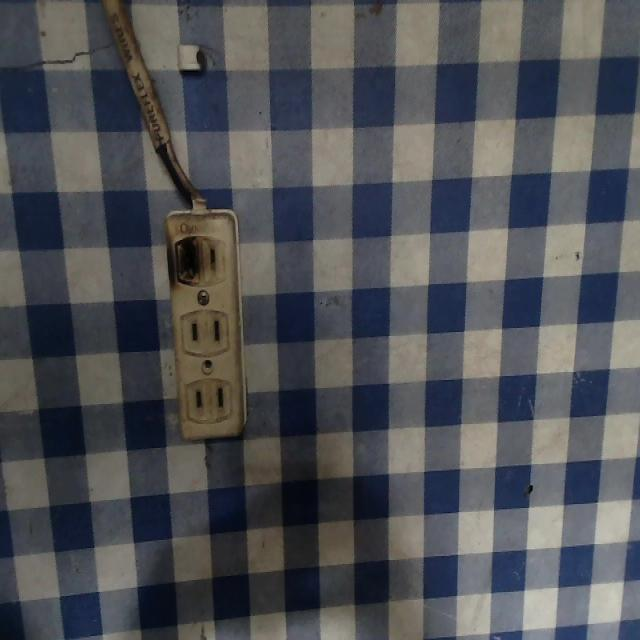-: (161, 218, 204, 290)
